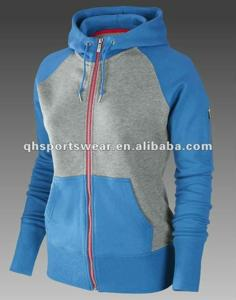C_jacket: (8, 1, 219, 294)
